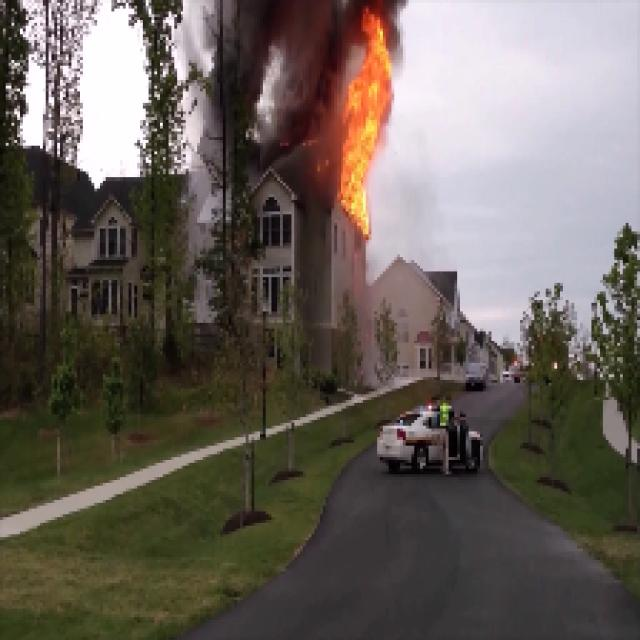fire: (341, 14, 397, 242)
smoke: (222, 5, 332, 168)
